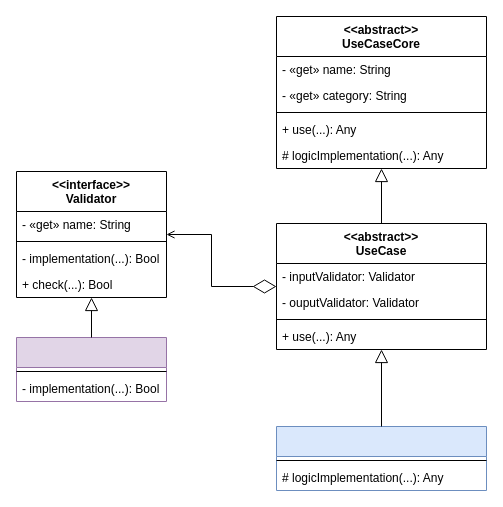
Image size: 503x507. Some labels were removed from this diagram. Here are the shapes that lost their labels. From the top down, the box of each, then its label:
(16, 336, 166, 402): CustomValidator
(276, 426, 486, 490): Custom use case
